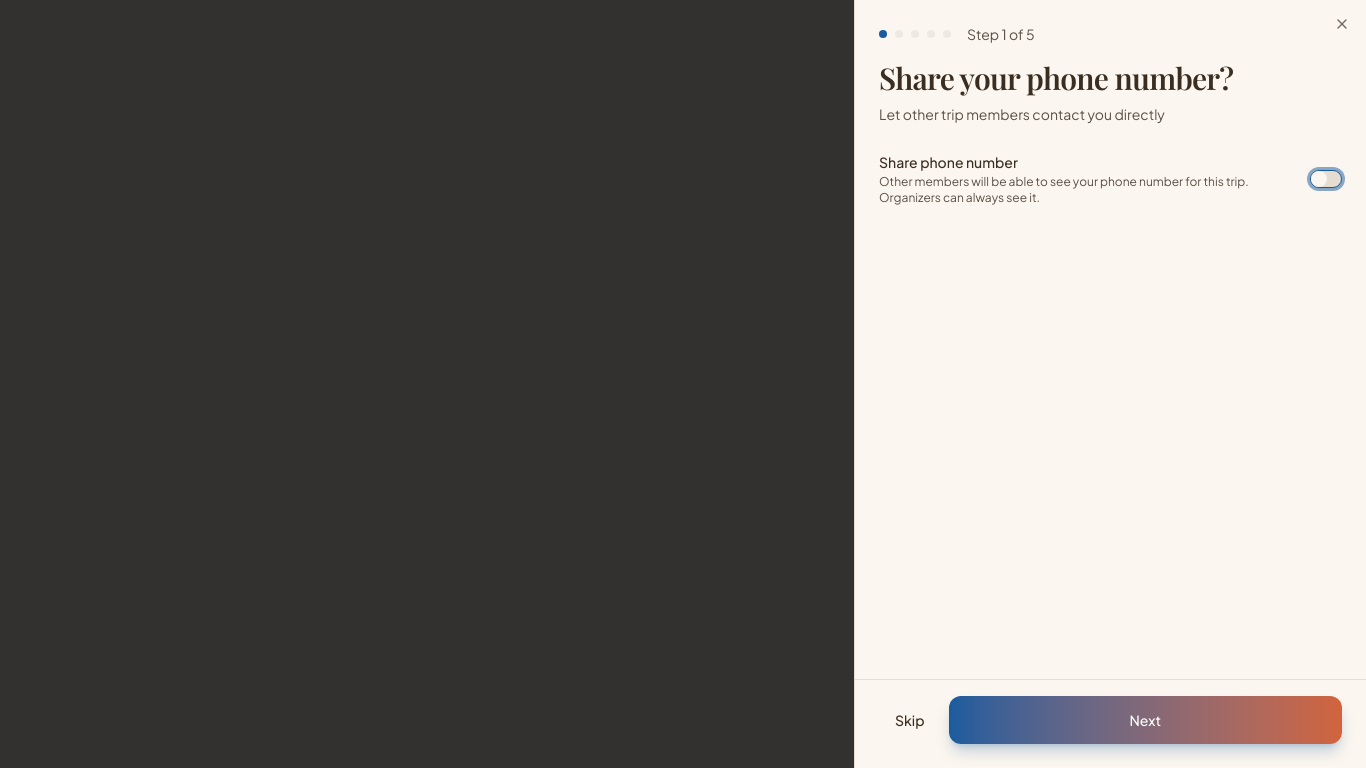
MemberOnboardingWizard › Phone sharing step › navigates from phone step to arrival step when clicking Skip
Click the button "Skip": coordinates (910, 720) [879, 696, 940, 744]
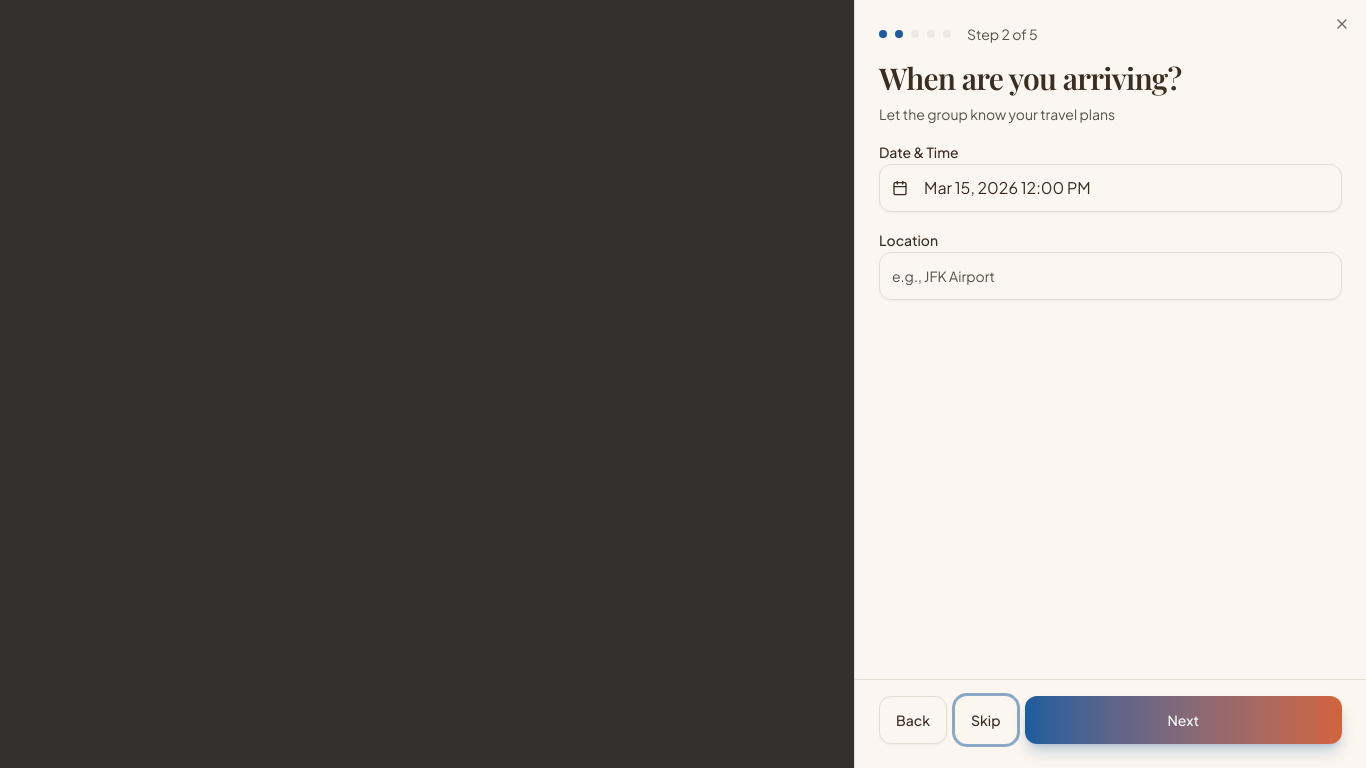
Result: the heading "When are you arriving?" is shown at [879, 58, 1181, 98]
Result: the text "Step 2 of 5" is shown at [967, 24, 1038, 44]
